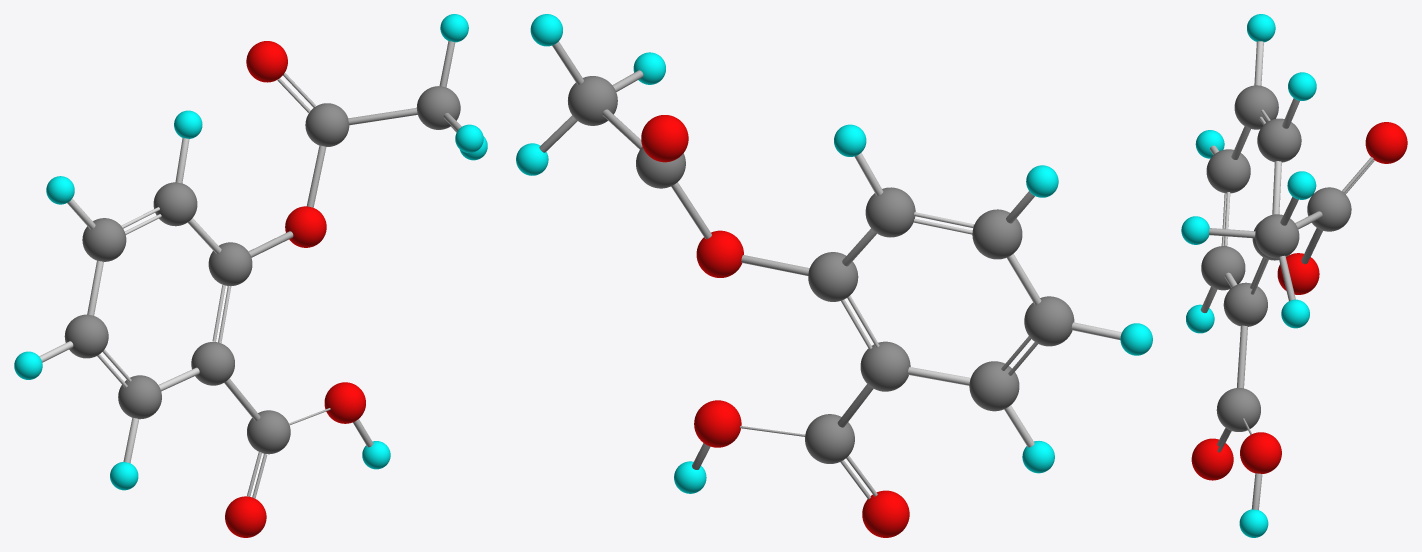
File: acetylsalicylic acid.glb
The picture shows the model from 3 angles, left to right: view 1: azimuth 30°, elevation 25°; view 2: azimuth 150°, elevation 25°; view 3: azimuth 270°, elevation 25°; orthographic projection. The views are drawn at different scales.
Visible parts, largest first — view 1: CMAtom_16, CMAtom_4, CMAtom_5, CMAtom_3, CMAtom_2, CMAtom_0, CMAtom_10, CMAtom_1, CMAtom_17, CMAtom_11, CMAtom_15, CMAtom_12 (+8 smaller); view 2: CMAtom_1, CMAtom_3, CMAtom_4, CMAtom_5, CMAtom_0, CMAtom_2, CMAtom_10, CMAtom_17, CMAtom_15, CMAtom_12, CMAtom_11, CMAtom_14 (+9 smaller); view 3: CMAtom_10, CMAtom_1, CMAtom_4, CMAtom_3, CMAtom_17, CMAtom_16, CMAtom_5, CMAtom_0, CMAtom_15, CMAtom_12, CMAtom_11, CMAtom_14 (+15 smaller).
Boxes of the visible parts, x1,y1,x2,y2 form: CMAtom_16: [305, 103, 349, 146]; CMAtom_4: [153, 182, 197, 226]; CMAtom_5: [118, 375, 161, 419]; CMAtom_3: [64, 314, 108, 358]; CMAtom_2: [208, 242, 252, 286]; CMAtom_0: [82, 218, 126, 261]; CMAtom_10: [247, 410, 290, 454]; CMAtom_1: [191, 342, 234, 385]; CMAtom_17: [416, 86, 460, 129]; CMAtom_11: [225, 496, 266, 537]; CMAtom_15: [246, 41, 287, 82]; CMAtom_12: [324, 382, 365, 423]; CMAtom_1: [860, 341, 910, 391]; CMAtom_3: [1024, 296, 1074, 346]; CMAtom_4: [865, 187, 915, 237]; CMAtom_5: [969, 361, 1019, 411]; CMAtom_0: [972, 209, 1022, 259]; CMAtom_2: [808, 252, 858, 301]; CMAtom_10: [805, 414, 854, 463]; CMAtom_17: [568, 76, 617, 125]; CMAtom_15: [641, 115, 688, 162]; CMAtom_12: [694, 400, 741, 447]; CMAtom_11: [862, 490, 909, 537]; CMAtom_14: [696, 230, 743, 277]; CMAtom_10: [1216, 388, 1260, 431]; CMAtom_1: [1223, 282, 1267, 326]; CMAtom_4: [1257, 118, 1301, 162]; CMAtom_3: [1206, 149, 1250, 193]; CMAtom_17: [1255, 214, 1299, 258]; CMAtom_16: [1307, 187, 1351, 231]; CMAtom_5: [1201, 246, 1245, 290]; CMAtom_0: [1234, 85, 1278, 129]; CMAtom_15: [1365, 122, 1407, 163]; CMAtom_12: [1240, 432, 1281, 473]; CMAtom_11: [1191, 438, 1233, 480]; CMAtom_14: [1277, 253, 1319, 294].
Bounding box in the file's own units: 8.3 × 6.61 × 3.15.
